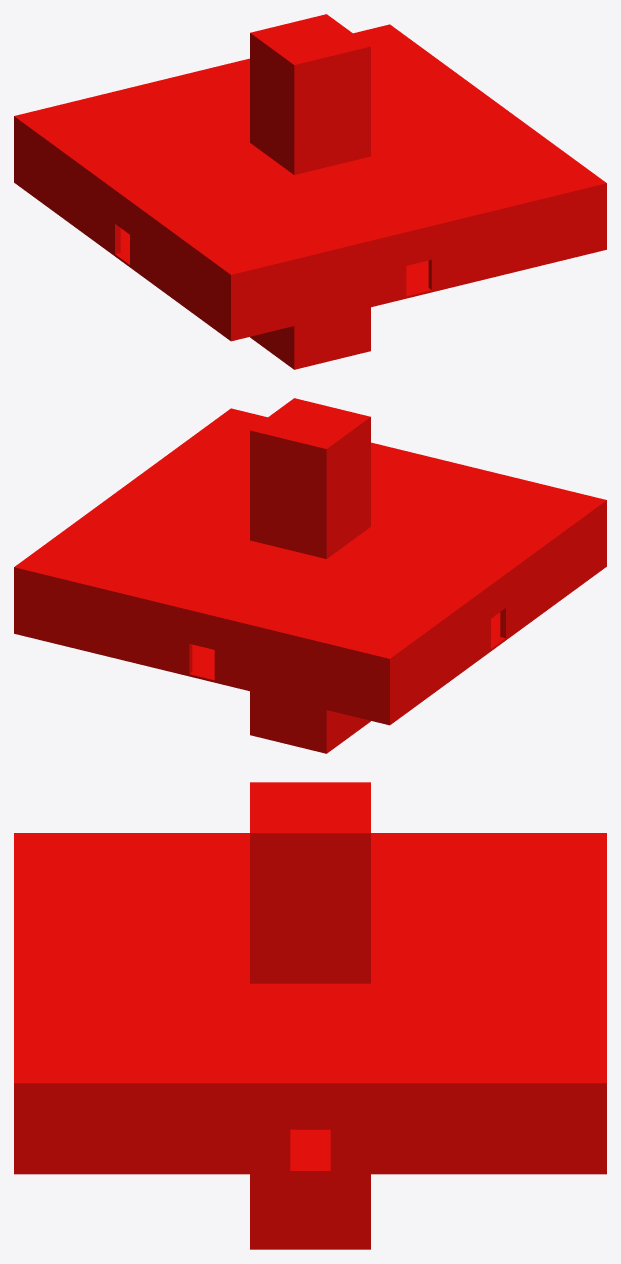
File: Elevator.fbx
3 renders of one model, top to bottom at view 1: azimuth 30°, elevation 25°; view 2: azimuth 150°, elevation 25°; view 3: azimuth 270°, elevation 25°, orthographic. The views are drawn at different scales.
Visible parts, largest first — view 1: Cube; view 2: Cube; view 3: Cube.
Part boxes in pixels (bbox=[...]): Cube: bbox=[14, 14, 606, 369]; Cube: bbox=[14, 398, 606, 753]; Cube: bbox=[14, 782, 606, 1249].
Bounding box in the file's own units: 6034 × 4673 × 6034.
